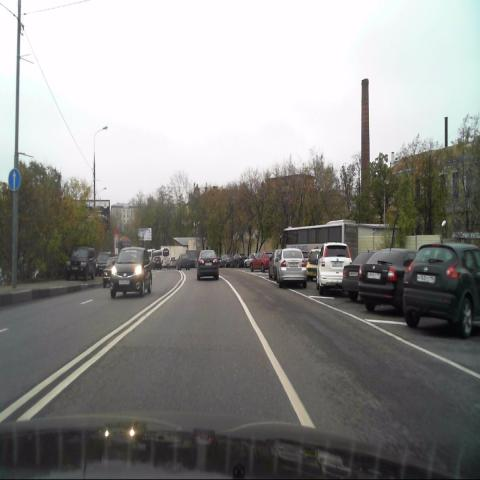4_1_1: (6, 168, 22, 192)
